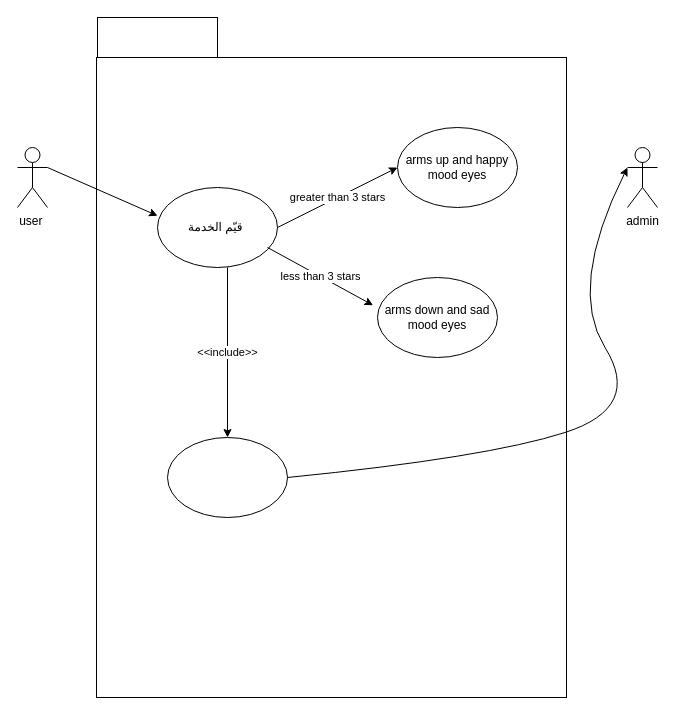
This 676x715 diagram has some shape labels left out. Each missing label, with the centre of its shape:
"the robot" goes at (157,37).
"شكرا لتقييمكم store the data" goes at (227,477).
